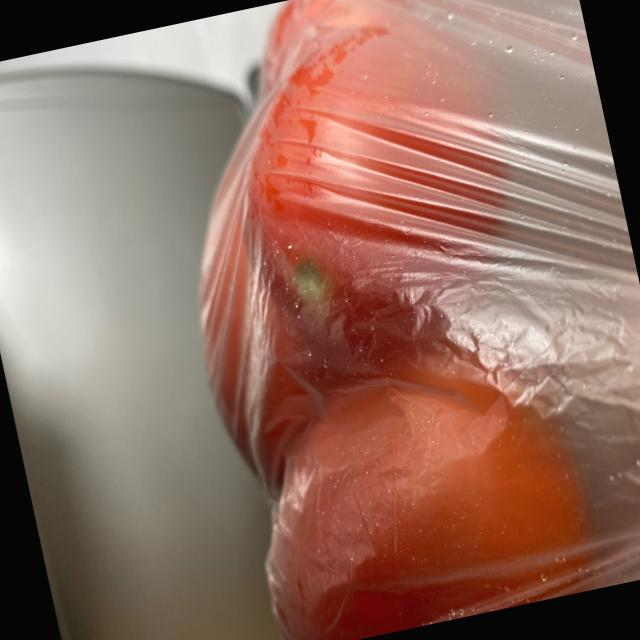tomato: (146, 0, 612, 640)
